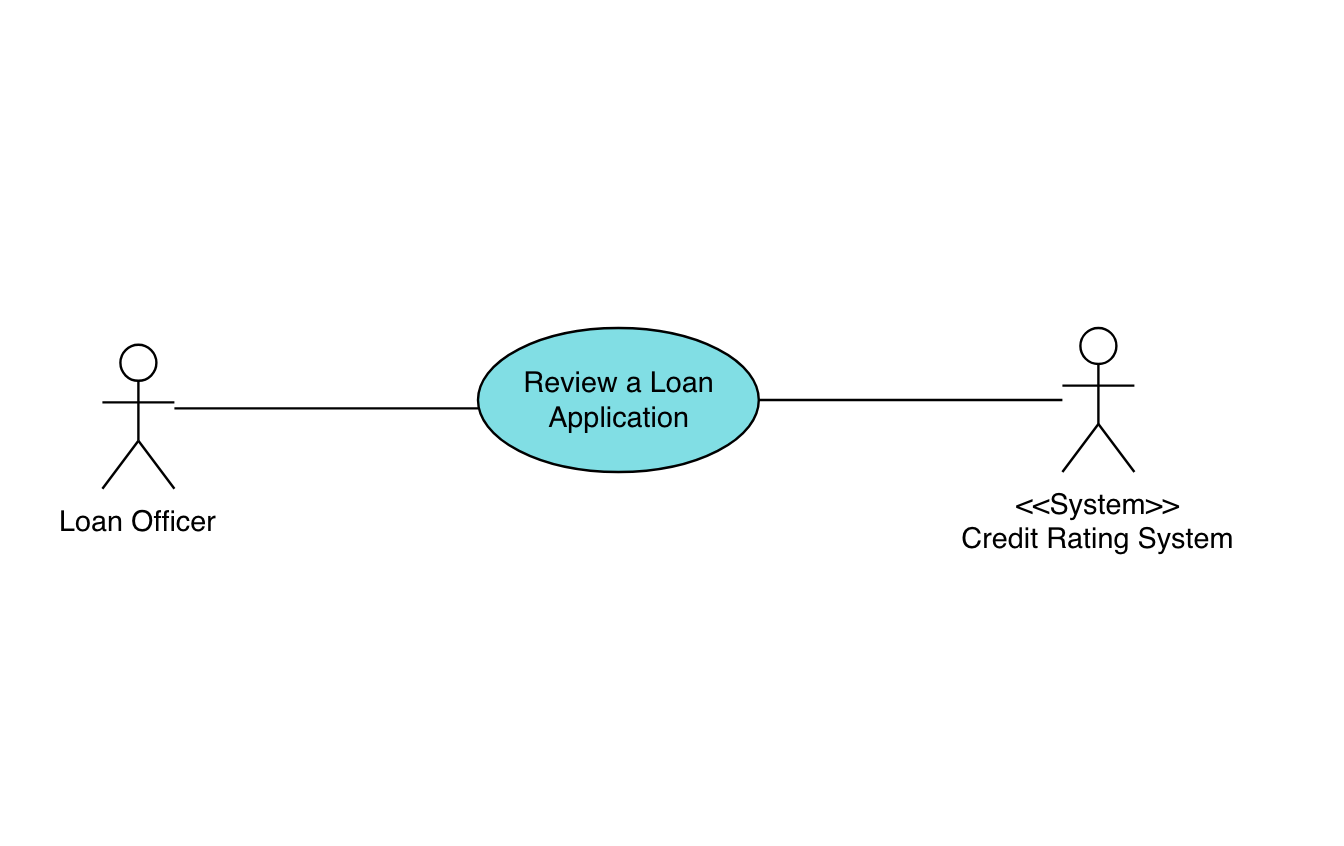actor: (91, 339, 178, 497), (1061, 325, 1140, 483)
association: (760, 373, 1066, 421), (174, 386, 477, 428)
text: (935, 486, 1246, 565), (514, 363, 719, 435), (44, 504, 233, 546)
use_case: (472, 325, 761, 476)
